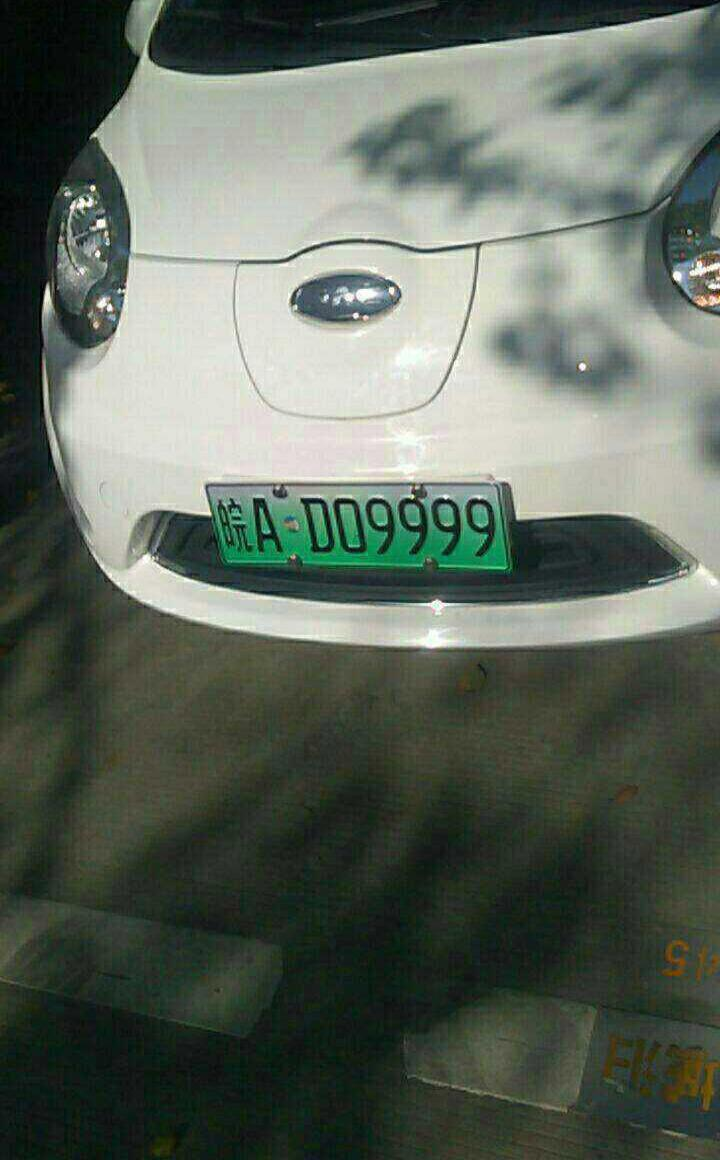car_id: (202, 483, 508, 570)
